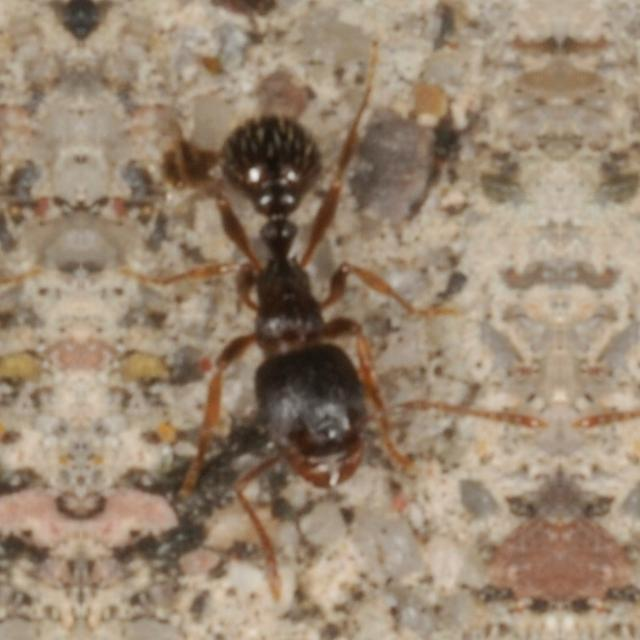Tetramorium: (130, 74, 470, 532)
